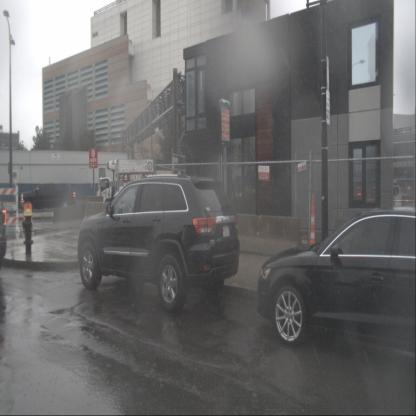cone: (307, 194, 319, 270), (20, 201, 35, 233)
